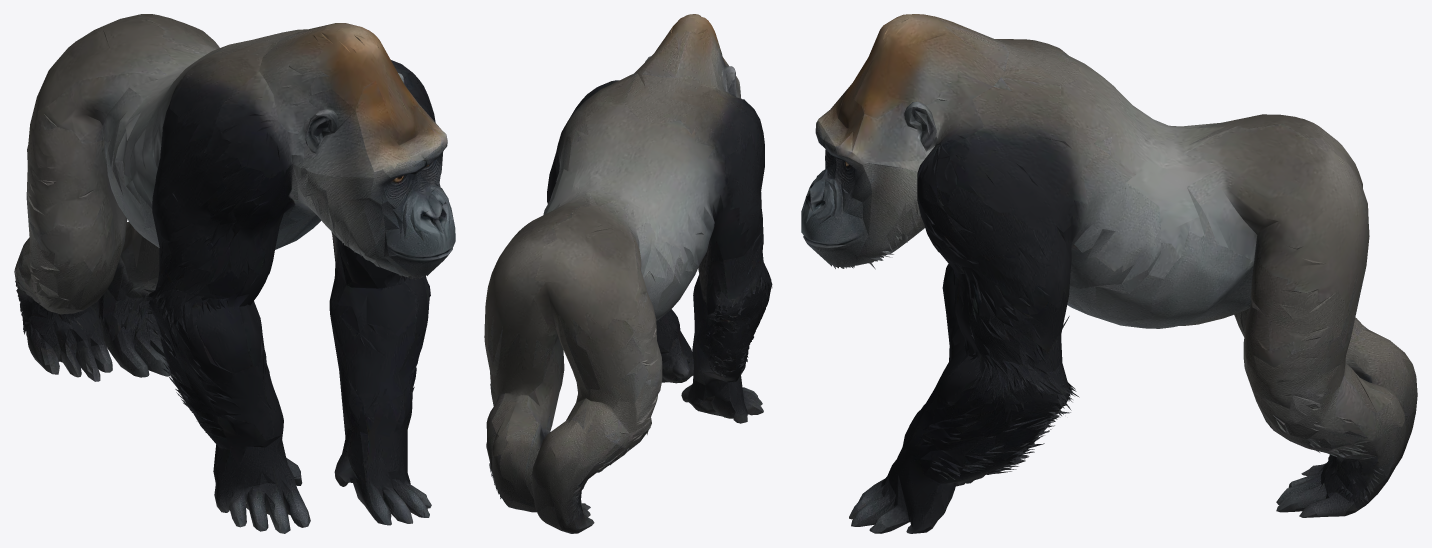
Rendered from animal_western_gorilla.glb.
3 renders of one model, left to right at view 1: azimuth 30°, elevation 25°; view 2: azimuth 150°, elevation 25°; view 3: azimuth 270°, elevation 25°, orthographic. The views are drawn at different scales.
Bounding box in the file's own units: 0.9668 × 1.67 × 1.9.
Materials: 1 (1 with a texture image).
